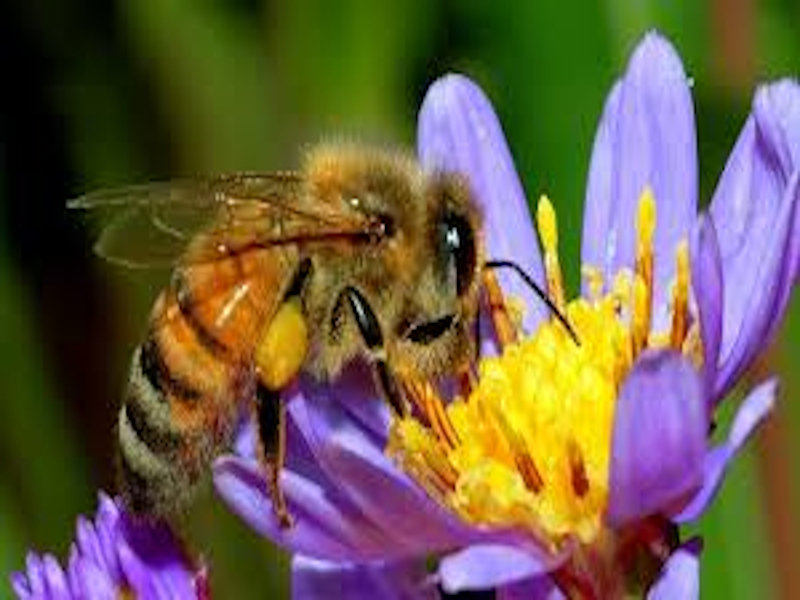abeja: (61, 121, 517, 499)
